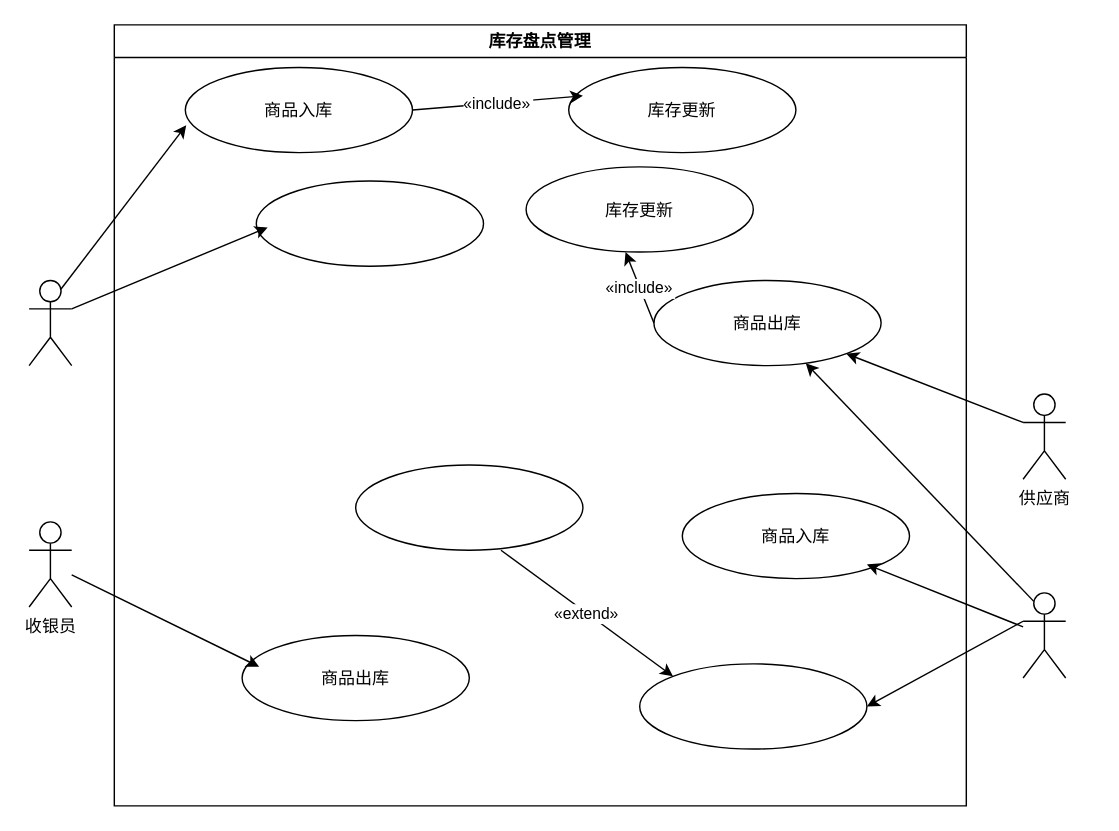
Image size: 1119x831. Some labels were removed from this diagram. Here are the shapes that lost their labels. From the top down, the box of each, then its label:
(255, 180, 484, 266): 库存查询
(28, 279, 72, 366): 管理员
(354, 464, 583, 550): 库存预警
(1022, 591, 1066, 678): 库存盘点系统
(638, 662, 867, 749): 库存盘点
